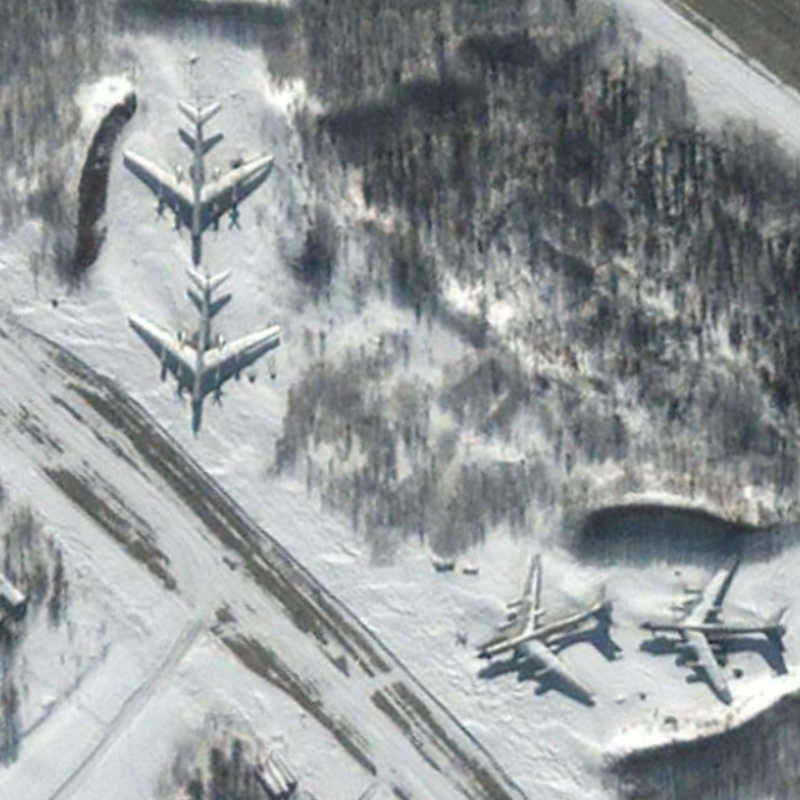A17: (116, 96, 277, 254), (125, 263, 286, 419), (632, 548, 789, 707), (471, 552, 625, 707)
